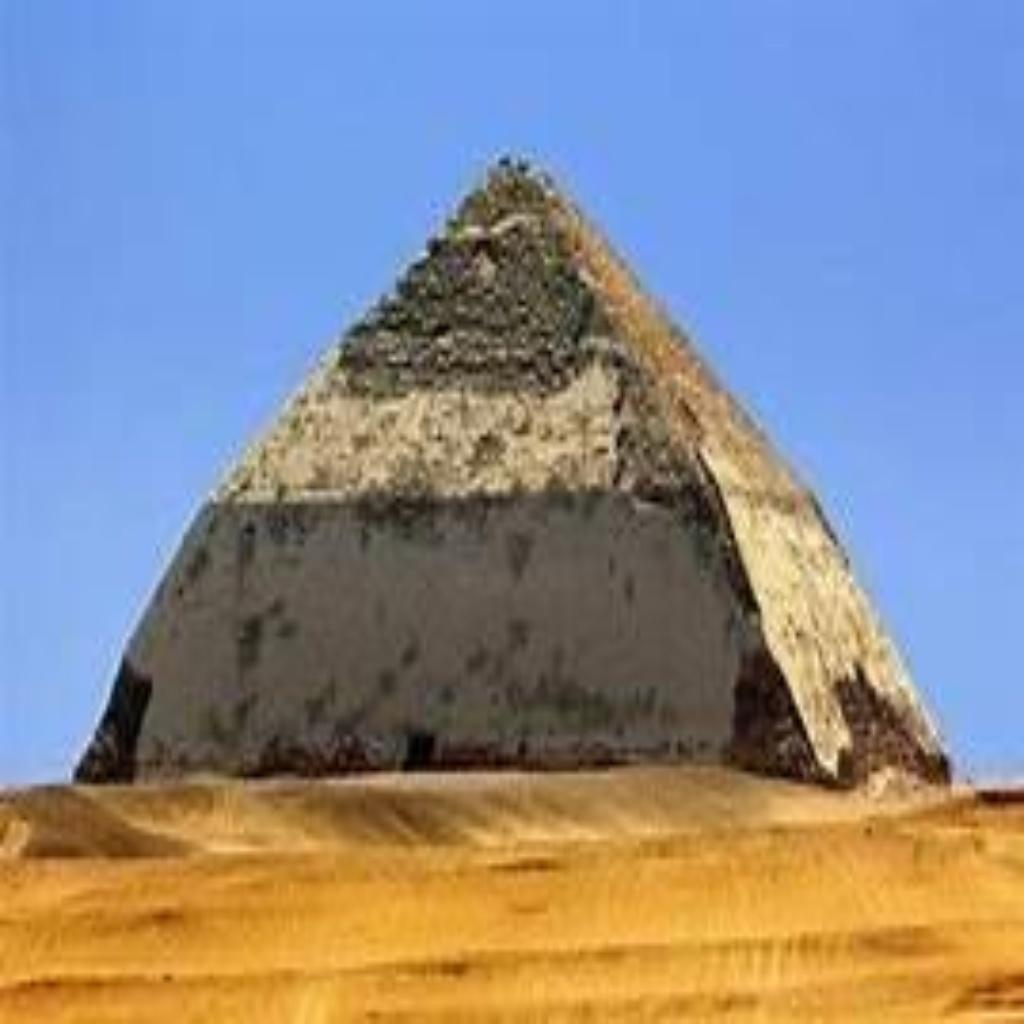Bent Pyramid of King Sneferu: (68, 135, 956, 797)
